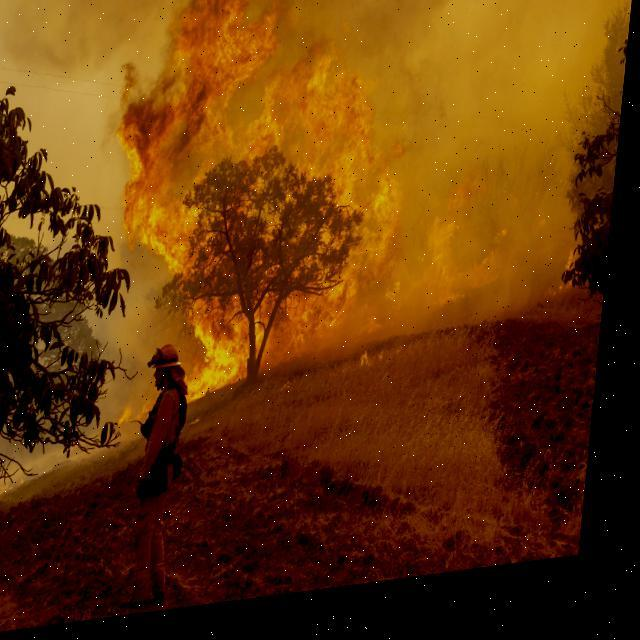Fire: (92, 0, 610, 423)
